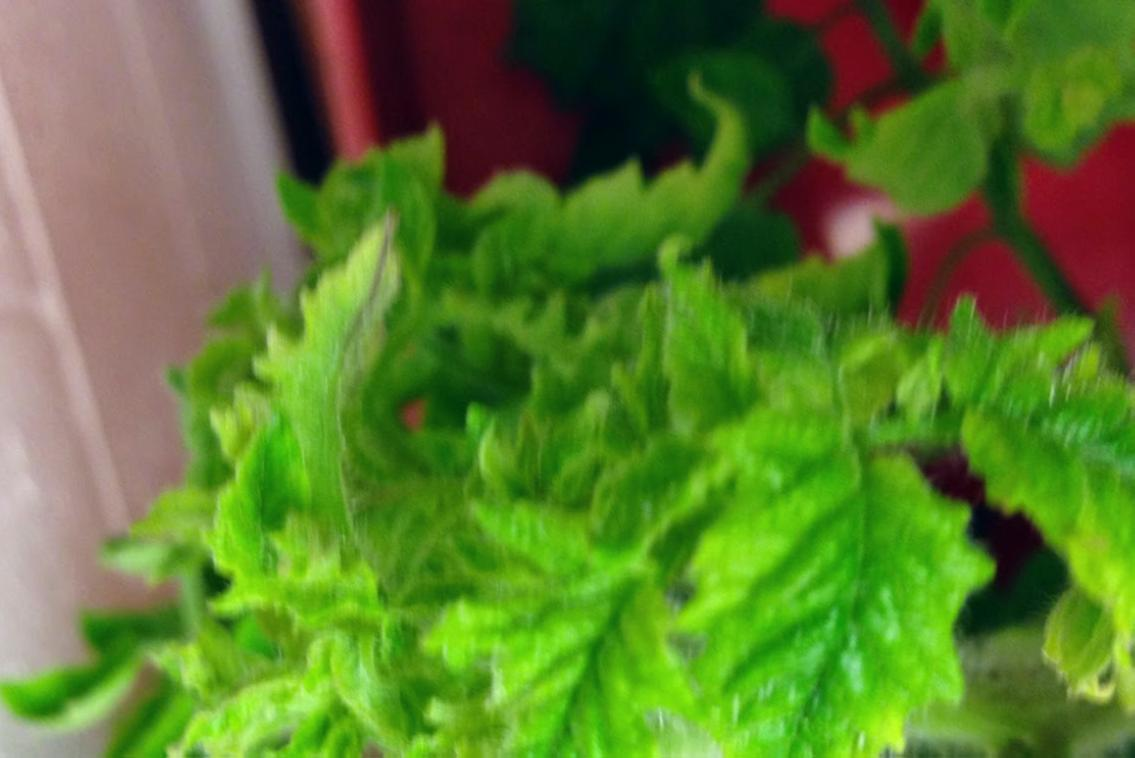Tomato leaf yellow virus: (708, 369, 1006, 758), (959, 304, 1135, 748), (479, 473, 689, 758)
